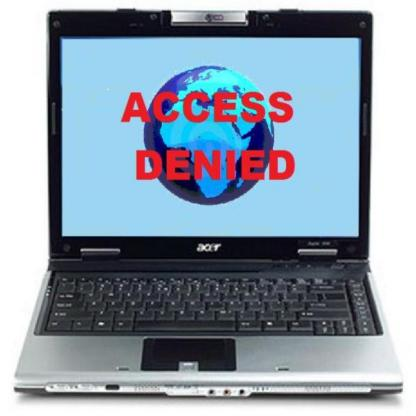board: (14, 8, 405, 402)
